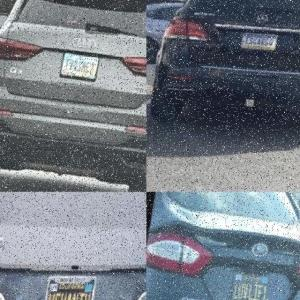Plate: (43, 269, 99, 300), (229, 266, 274, 300), (60, 52, 101, 83), (241, 33, 278, 51)
